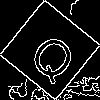Q: (25, 25, 85, 87)
